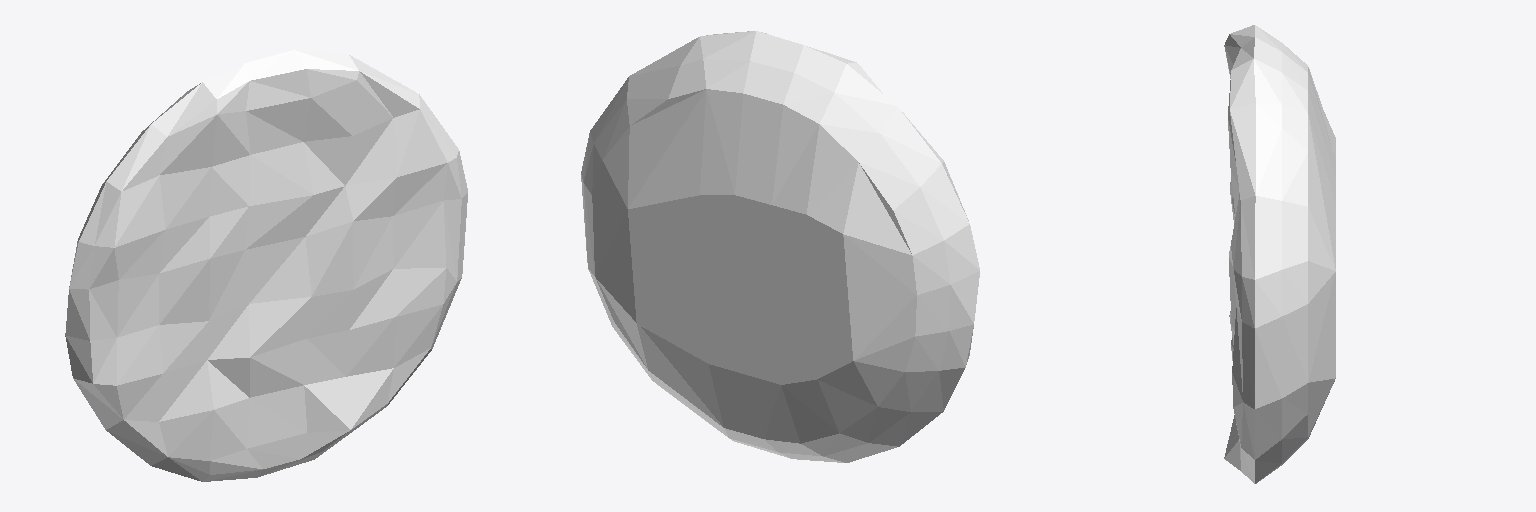
Rendered from applepie.obj.
3 renders of one model, left to right at view 1: azimuth 30°, elevation 25°; view 2: azimuth 150°, elevation 25°; view 3: azimuth 270°, elevation 25°, orthographic.
Visible parts, largest first — view 1: Pie:0; view 2: Pie:0; view 3: Pie:0.
Part boxes in pixels (left/top/right/bottom): Pie:0: left=65, top=50, right=467, bottom=481; Pie:0: left=581, top=31, right=979, bottom=462; Pie:0: left=1224, top=25, right=1335, bottom=483.
Size of the model in its own units: 26.01 by 26.09 by 6.31.